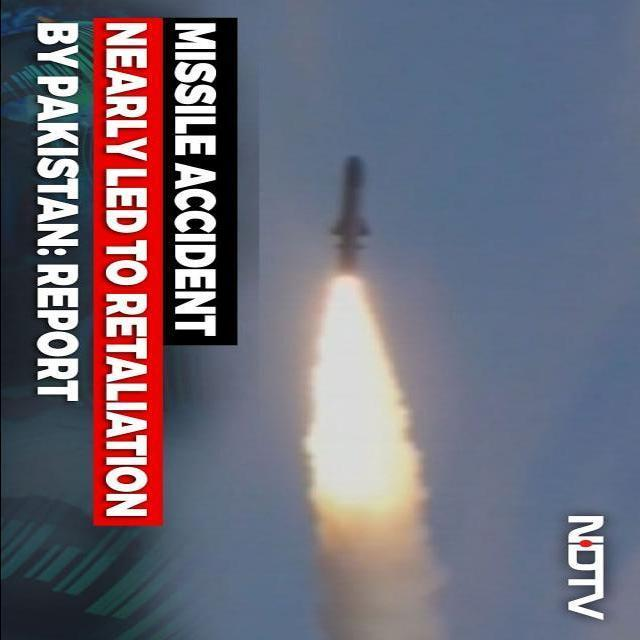Missile: (329, 156, 377, 283)
